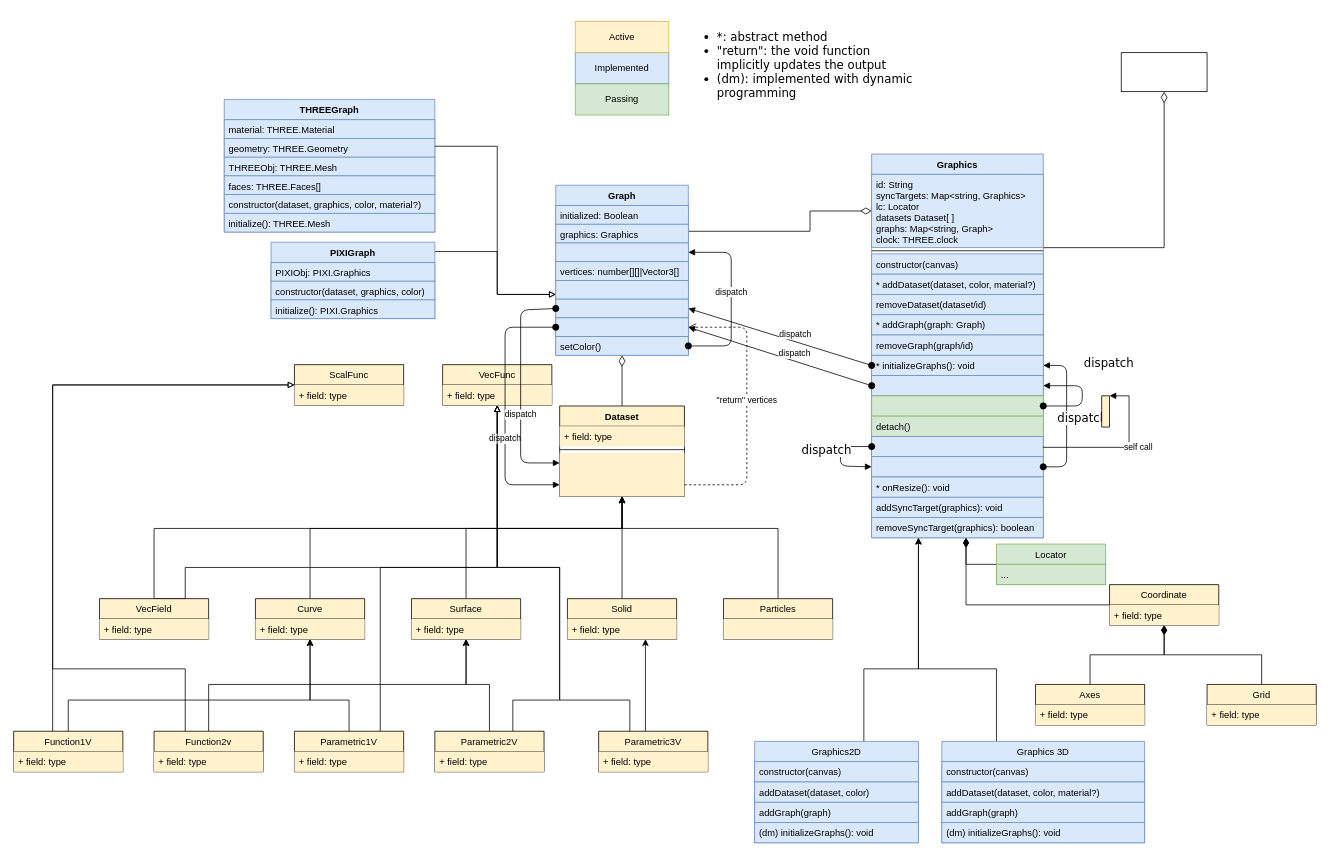
Image size: 1330x858. Some labels were removed from this diagram. The shapes that lost their labels are listed below. From the top down, each one's centre as x and y in pixels, then its label:
point 1163,72: Pendulum
point 621,252: color: hexNumber
point 621,289: constructor(dataset, graphics)
point 621,308: * initialize()
point 621,327: * update()
point 957,385: * updateGraphs(): void
point 957,405: attach()
point 621,462: initialize(graph: Graph): void
point 957,446: animate(): void
point 957,466: * render(): void
point 621,484: update(graph: Graph): void
point 777,629: matrix: number[]
